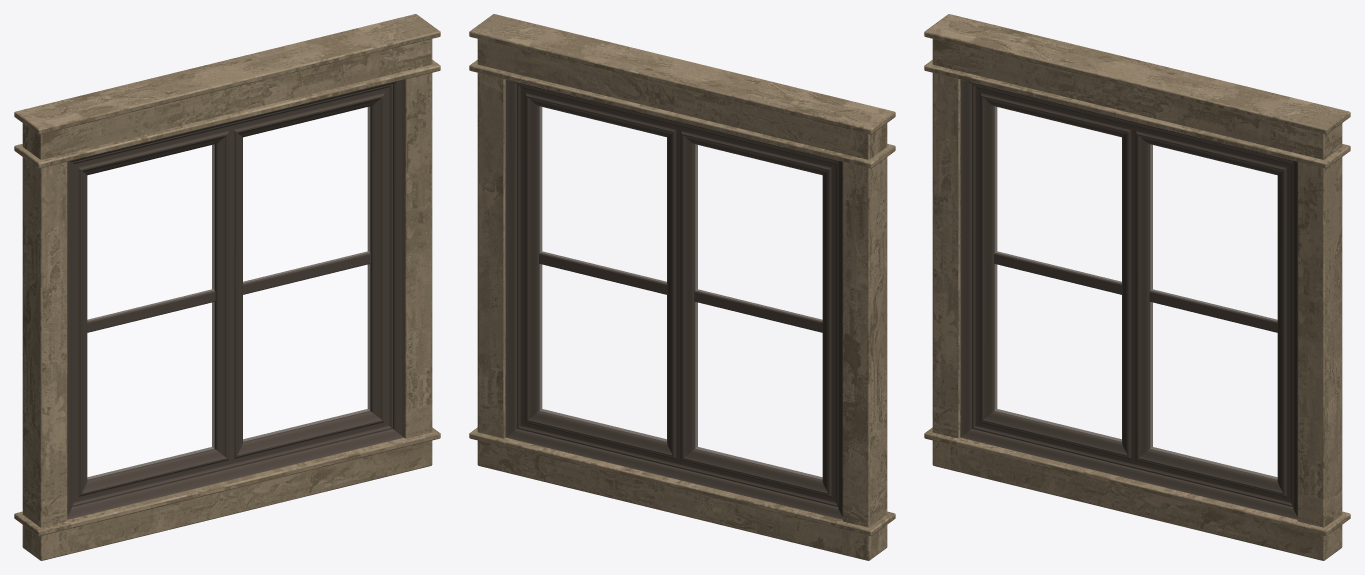
The model's file is Project Name.gltf.
3 views of the same model, side by side, from view 1: azimuth 30°, elevation 25°; view 2: azimuth 150°, elevation 25°; view 3: azimuth 330°, elevation 25° (orthographic).
Visible parts, largest first — view 1: Glass_Square (×4), External_Frame_Square, Internal_Frame_Square; view 2: Glass_Square (×4), External_Frame_Square, Internal_Frame_Square; view 3: Glass_Square (×4), External_Frame_Square, Internal_Frame_Square.
Boxes of the visible parts, left/top/right/bottom form: Glass_Square (×4): left=87, top=107, right=369, bottom=478; External_Frame_Square: left=14, top=14, right=440, bottom=560; Internal_Frame_Square: left=67, top=79, right=404, bottom=519; Glass_Square (×4): left=540, top=107, right=822, bottom=478; External_Frame_Square: left=469, top=14, right=895, bottom=560; Internal_Frame_Square: left=505, top=79, right=842, bottom=519; Glass_Square (×4): left=995, top=107, right=1277, bottom=478; External_Frame_Square: left=924, top=14, right=1350, bottom=560; Internal_Frame_Square: left=960, top=79, right=1297, bottom=519.
Bounding box in the file's own units: 0.0745 × 0.077 × 0.008.
Materials: 6 (1 with a texture image).
